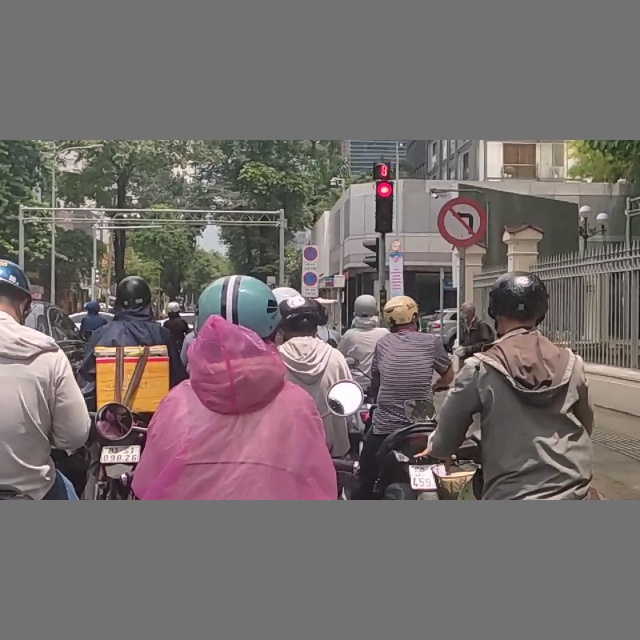P.123a: (435, 197, 489, 248)
P.130: (303, 245, 318, 261)
P.131a: (302, 270, 317, 286)
